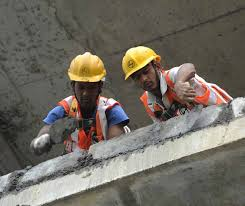Person_wearing_helmet: (119, 38, 163, 82), (67, 47, 104, 88)
